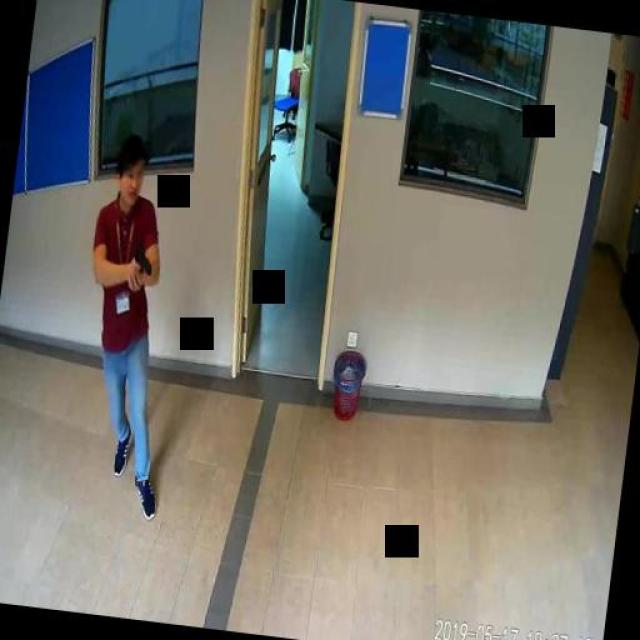gun: (128, 244, 152, 288)
